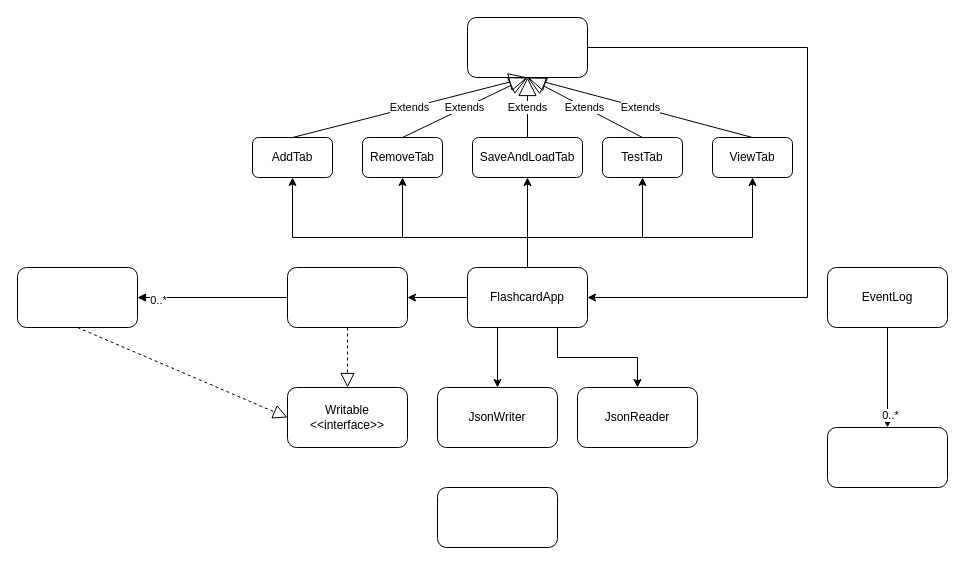
This 965x565 diagram has some shape labels left out. The box of each missing label's shape, as (x1, y1, x2, y2) in pixels:
Event: (826, 426, 948, 488)
Flashcard: (16, 266, 138, 328)
FlashcardList: (286, 266, 408, 328)
Main: (436, 486, 558, 548)
Tab: (466, 16, 588, 78)
